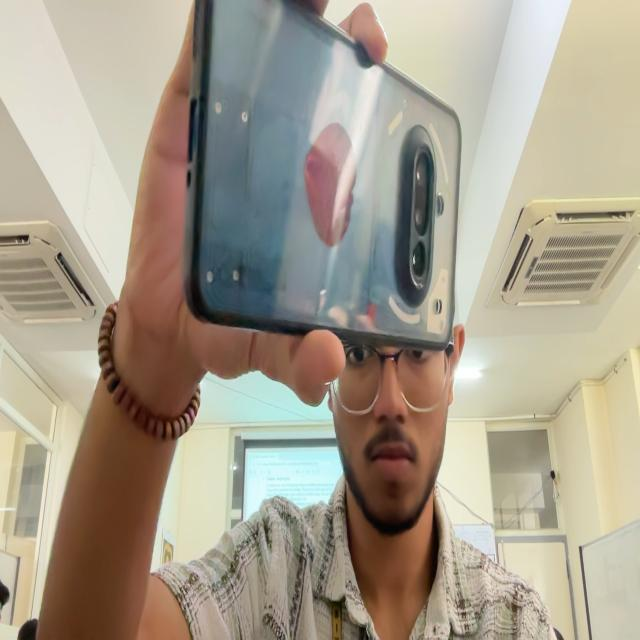Useful: (185, 0, 461, 350)
